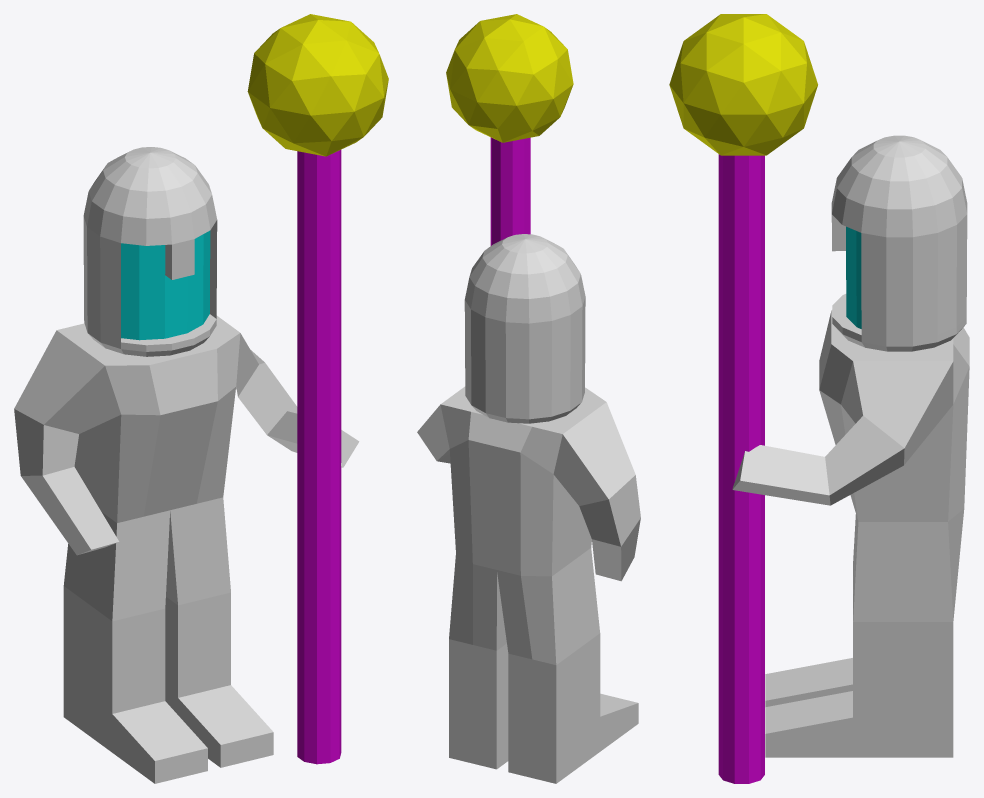
The model's file is Person.glb.
3 renders of one model, left to right at view 1: azimuth 30°, elevation 25°; view 2: azimuth 150°, elevation 25°; view 3: azimuth 270°, elevation 25°, orthographic. The views are drawn at different scales.
Visible parts, largest first — view 1: Person; view 2: Person; view 3: Person.
Part boxes in pixels (bbox=[...]): Person: bbox=[14, 14, 388, 783]; Person: bbox=[417, 14, 640, 783]; Person: bbox=[669, 14, 969, 783].
Bounding box in the file's own units: 0.5976 × 1.55 × 0.5585.
